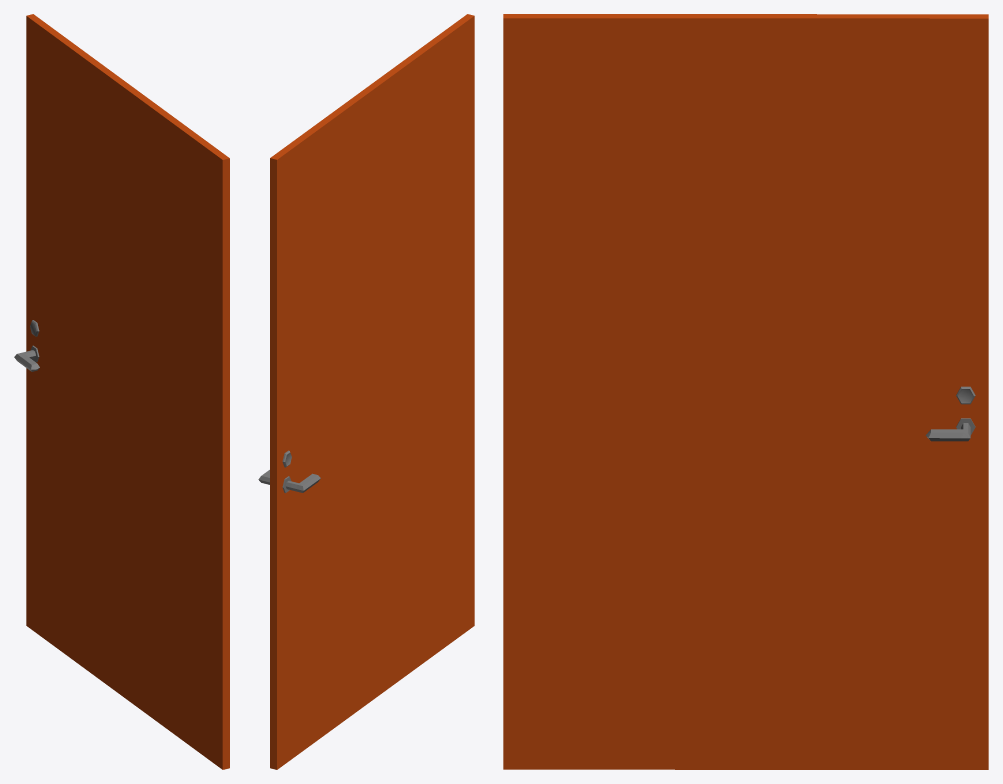
File: SW_corridor__R_lobby_booth_door.FBX
3 renders of one model, left to right at view 1: azimuth 30°, elevation 25°; view 2: azimuth 150°, elevation 25°; view 3: azimuth 270°, elevation 25°, orthographic. The views are drawn at different scales.
Parts seen in each view (by area): view 1: SW_corridor__R_lobby_booth_door; view 2: SW_corridor__R_lobby_booth_door; view 3: SW_corridor__R_lobby_booth_door.
Boxes of the visible parts, <box> form: SW_corridor__R_lobby_booth_door: <box>14,14,229,769</box>; SW_corridor__R_lobby_booth_door: <box>258,14,474,769</box>; SW_corridor__R_lobby_booth_door: <box>503,14,988,769</box>.
Bounding box in the file's own units: 16.05 × 120 × 205.
